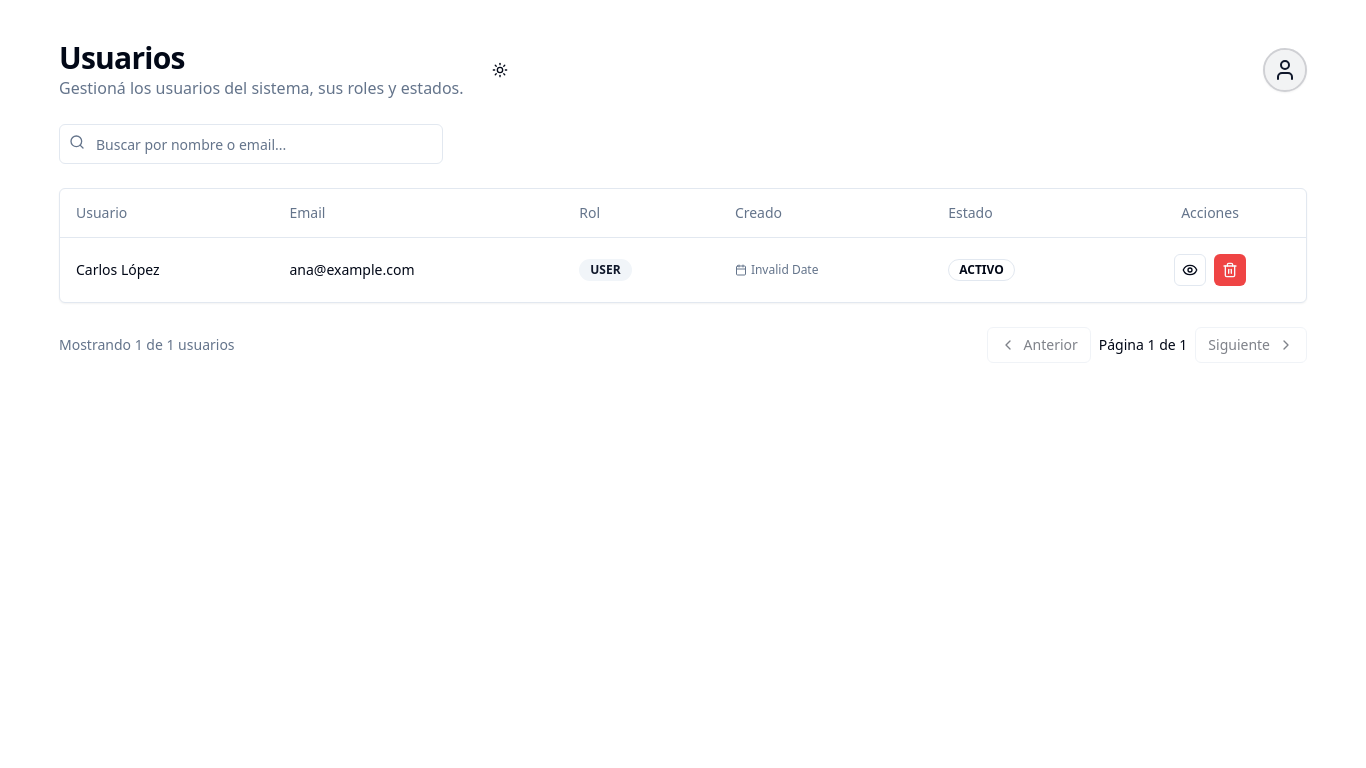
Test: UsersPage › Desactivación exitosa › debería cerrar el modal y refrescar la lista tras DELETE exitoso
Expected: the text "Carlos López" is shown, [60,237,273,302]
Note: Abre el modal usando el selector por nombre accesible
Step 1. Click the button named "desactivar" → (1230, 270), box [1214,254,1246,286]
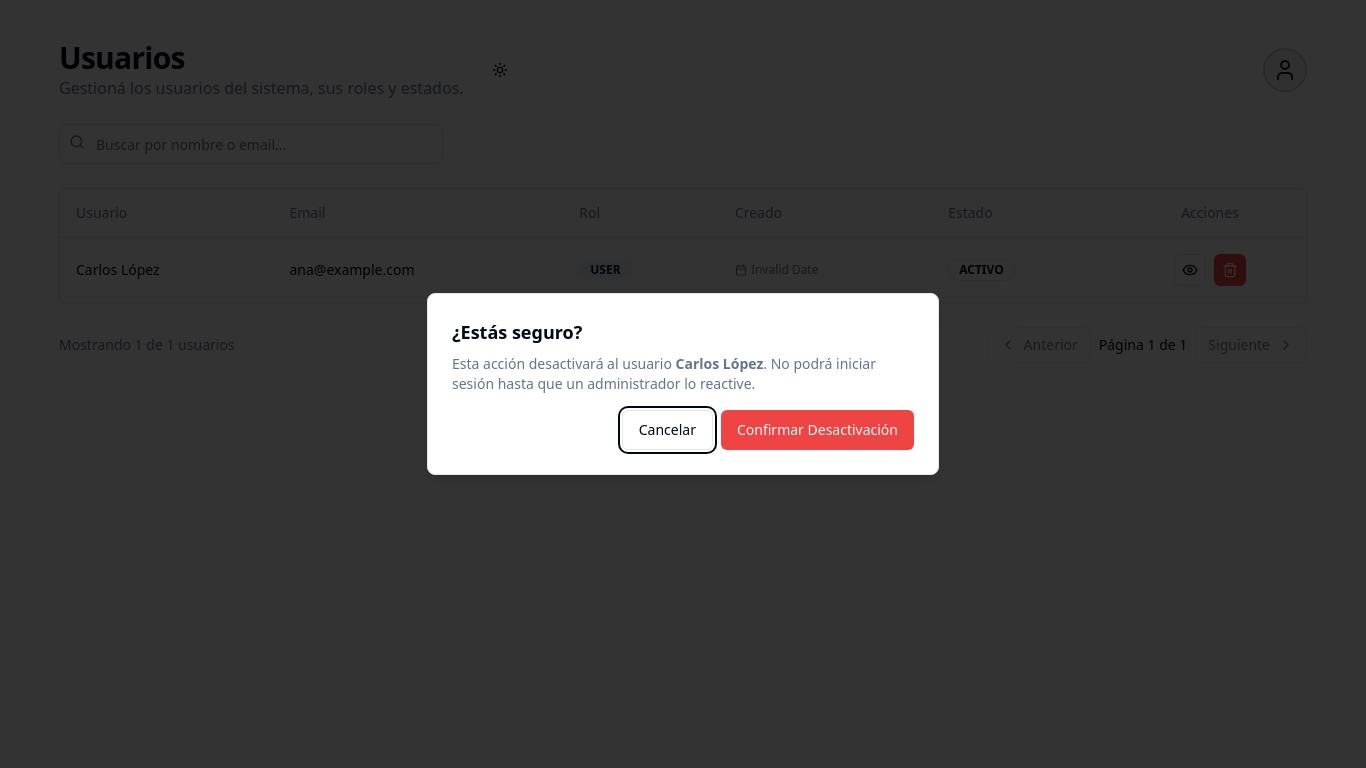
Expected: the heading "¿Estás seguro?" is shown, [452,320,582,344]
Step 2. Click the button "Confirmar Desactivación" → (818, 430), box [721,410,914,450]
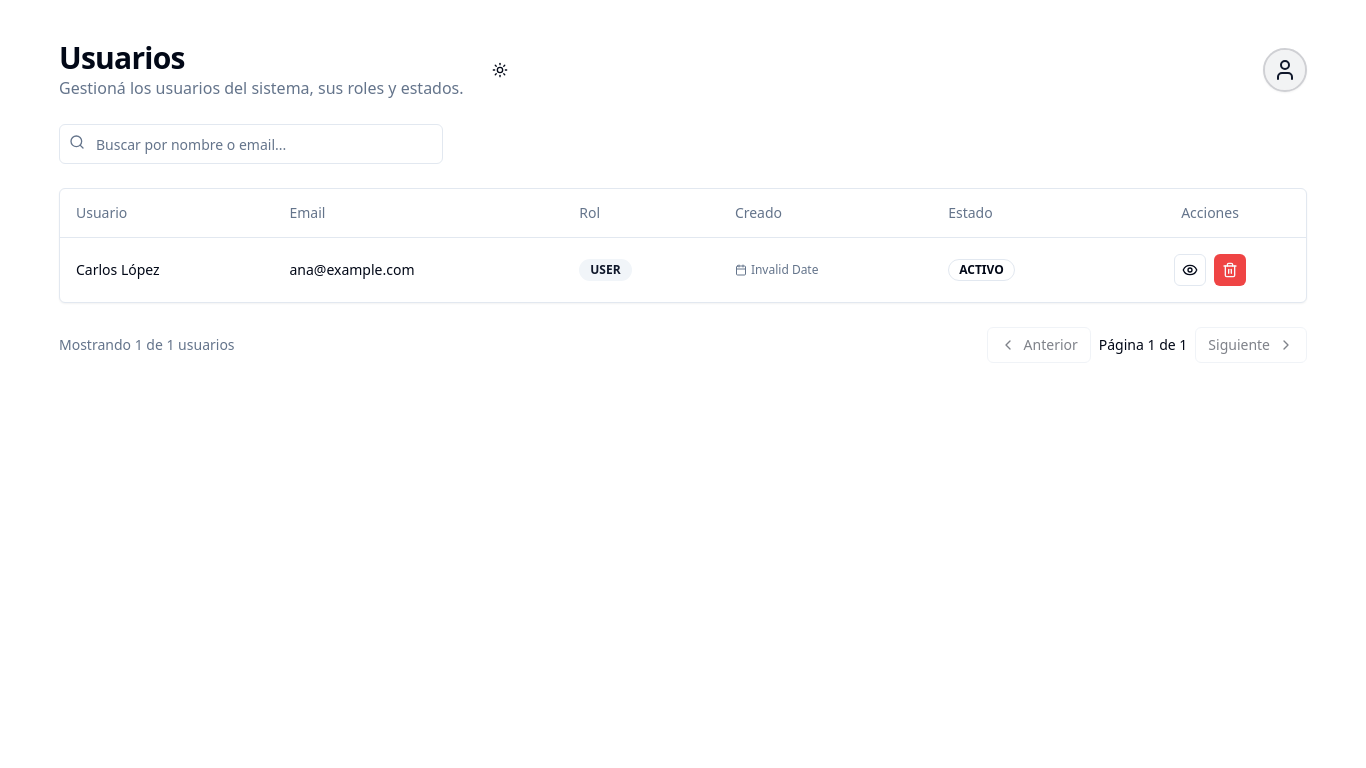
Expected: the dialog is gone
